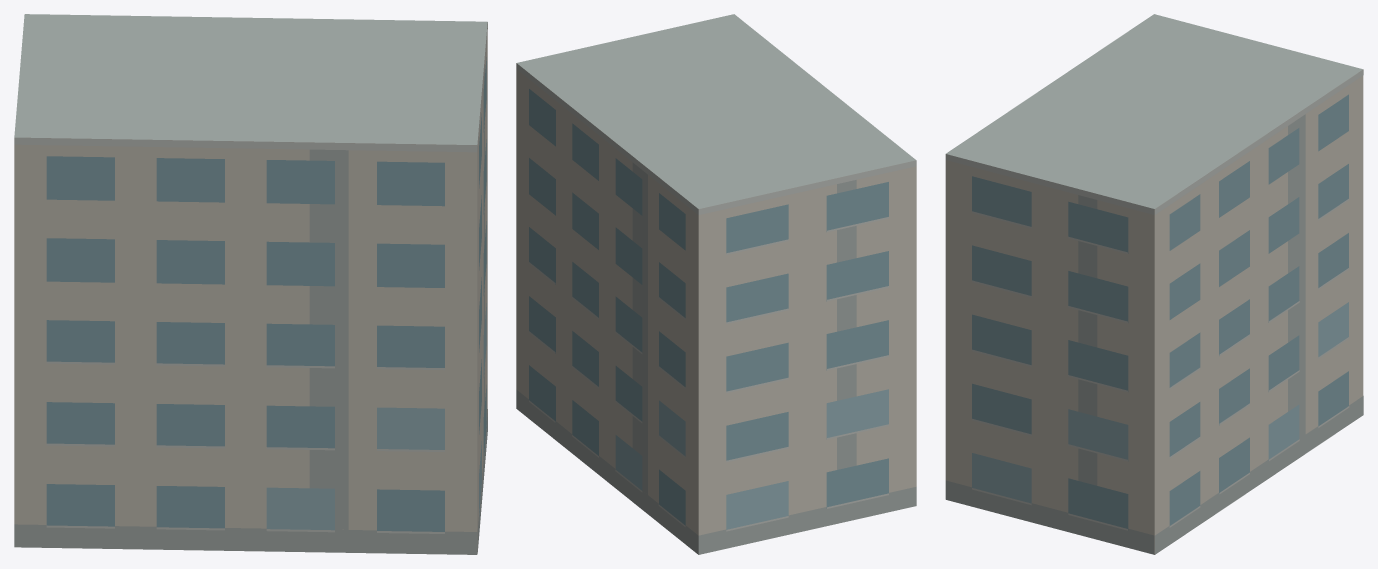
File: survey-upis-32880181.glb
3 renders of one model, left to right at view 1: azimuth 30°, elevation 25°; view 2: azimuth 150°, elevation 25°; view 3: azimuth 270°, elevation 25°, orthographic. The views are drawn at different scales.
Parts seen in each view (by area): view 1: survey-upis-32880181.tmp; view 2: survey-upis-32880181.tmp; view 3: survey-upis-32880181.tmp.
Part boxes in pixels (box(x1,y1,x2,y2)): survey-upis-32880181.tmp: box(14, 14, 487, 554); survey-upis-32880181.tmp: box(516, 14, 916, 554); survey-upis-32880181.tmp: box(945, 14, 1363, 554).
Size of the model in its own units: 16.83 by 13.9 by 15.23.
